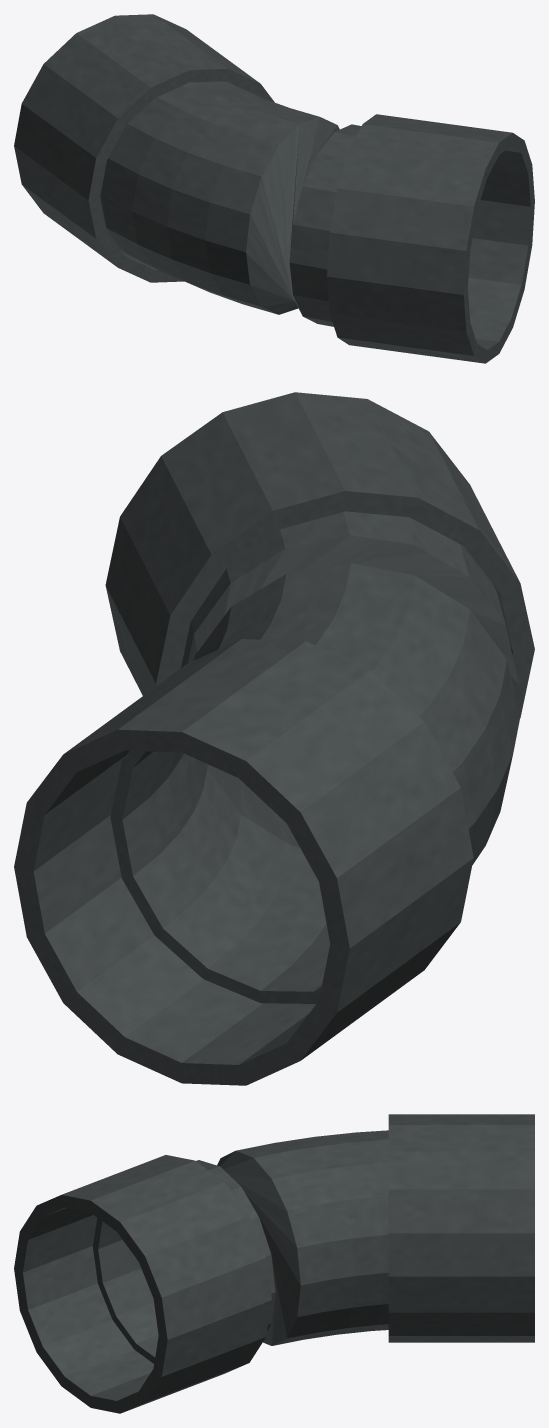
The model's file is Pipe_Elbow_45.glb.
3 renders of one model, top to bottom at view 1: azimuth 30°, elevation 25°; view 2: azimuth 150°, elevation 25°; view 3: azimuth 270°, elevation 25°, orthographic. The views are drawn at different scales.
Parts seen in each view (by area): view 1: Outlet_Slip_Collar, Swept_Elbow_75mm, Inlet_Slip_Collar; view 2: Inlet_Slip_Collar, Swept_Elbow_75mm, Outlet_Slip_Collar; view 3: Outlet_Slip_Collar, Inlet_Slip_Collar, Swept_Elbow_75mm.
Boxes of the visible parts, x1=… form: Outlet_Slip_Collar: x1=327, y1=114, x2=534, y2=363; Swept_Elbow_75mm: x1=100, y1=81, x2=361, y2=326; Inlet_Slip_Collar: x1=14, y1=14, x2=274, y2=282; Inlet_Slip_Collar: x1=14, y1=639, x2=473, y2=1085; Swept_Elbow_75mm: x1=110, y1=511, x2=519, y2=1003; Outlet_Slip_Collar: x1=105, y1=392, x2=534, y2=718; Outlet_Slip_Collar: x1=14, y1=1155, x2=271, y2=1413; Inlet_Slip_Collar: x1=388, y1=1114, x2=534, y2=1342; Swept_Elbow_75mm: x1=92, y1=1130, x2=388, y2=1363.
Bounding box in the file's own units: 0.1423 × 0.086 × 0.1959.
1 material, 1 textured.
